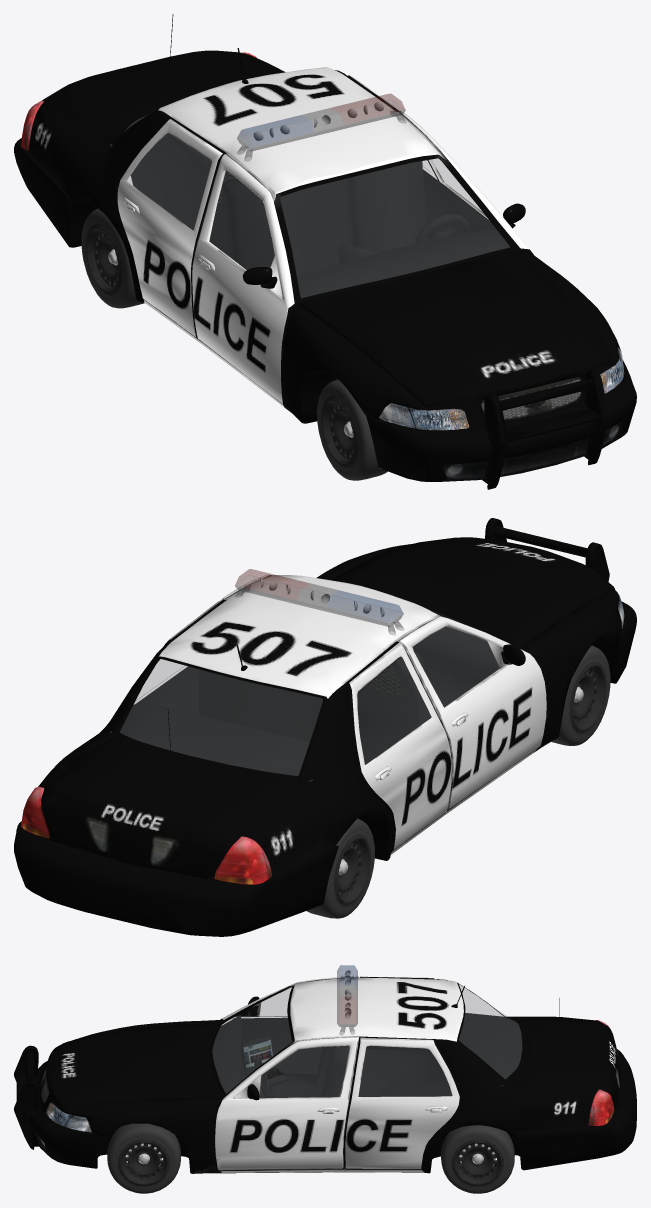
Rendered from car_police_new.glb.
3 views of the same model, one above another, from view 1: azimuth 30°, elevation 25°; view 2: azimuth 150°, elevation 25°; view 3: azimuth 270°, elevation 25° (orthographic). The views are drawn at different scales.
Visible parts, largest first — view 1: CrownVic.Body_0_6, windows glass_0_8, interior_0_10, CrownVic.Wheel.Ft.R_0_20, Roof light bar_0_12, CrownVic.Wheel.Bk.R_0_26; view 2: CrownVic.Body_0_6, windows glass_0_8, interior_0_10, Roof light bar_0_12, CrownVic.Wheel.Bk.R_0_26, CrownVic.Wheel.Ft.R_0_20; view 3: CrownVic.Body_0_6, windows glass_0_8, interior_0_10, CrownVic.Wheel.Ft.L_0_17, CrownVic.Wheel.Bk.L_0_23, Roof light bar_0_12.
Boxes of the visible parts, x1=… form: CrownVic.Body_0_6: x1=14, y1=14, x2=636, y2=489; windows glass_0_8: x1=126, y1=110, x2=509, y2=297; interior_0_10: x1=110, y1=116, x2=509, y2=298; CrownVic.Wheel.Ft.R_0_20: x1=317, y1=379, x2=387, y2=480; Roof light bar_0_12: x1=237, y1=93, x2=406, y2=161; CrownVic.Wheel.Bk.R_0_26: x1=81, y1=208, x2=144, y2=308; CrownVic.Body_0_6: x1=14, y1=518, x2=636, y2=936; windows glass_0_8: x1=120, y1=608, x2=499, y2=775; interior_0_10: x1=110, y1=615, x2=499, y2=781; Roof light bar_0_12: x1=235, y1=569, x2=404, y2=634; CrownVic.Wheel.Bk.R_0_26: x1=307, y1=818, x2=374, y2=918; CrownVic.Wheel.Ft.R_0_20: x1=551, y1=645, x2=610, y2=745; CrownVic.Body_0_6: x1=14, y1=976, x2=636, y2=1173; windows glass_0_8: x1=212, y1=985, x2=521, y2=1097; interior_0_10: x1=212, y1=1013, x2=522, y2=1098; CrownVic.Wheel.Ft.L_0_17: x1=107, y1=1123, x2=180, y2=1193; CrownVic.Wheel.Bk.L_0_23: x1=441, y1=1125, x2=514, y2=1193; Roof light bar_0_12: x1=337, y1=965, x2=357, y2=1035.
Size of the model in its own units: 2.48 by 1.98 by 6.7.
Materials: 7 (5 with a texture image).
